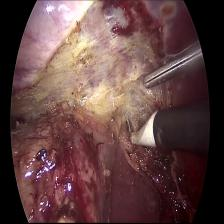Grasper: (139, 39, 200, 99)
Hook: (121, 104, 157, 167)
